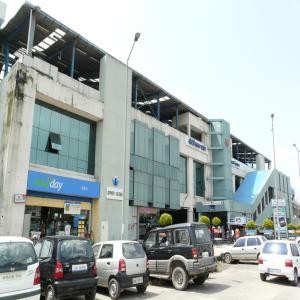Vehicle-registration-plate: (1, 273, 23, 283), (74, 265, 89, 272), (133, 278, 144, 287), (270, 270, 282, 276), (203, 253, 210, 259)
